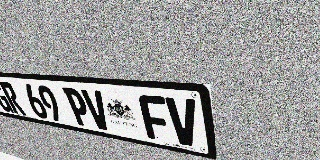6: (21, 84, 50, 120)
9: (35, 85, 65, 122)
F: (138, 94, 172, 142)
G: (0, 80, 14, 113)
P: (62, 87, 94, 128)
R: (0, 82, 26, 115)
V: (165, 97, 201, 148), (80, 89, 113, 131)
